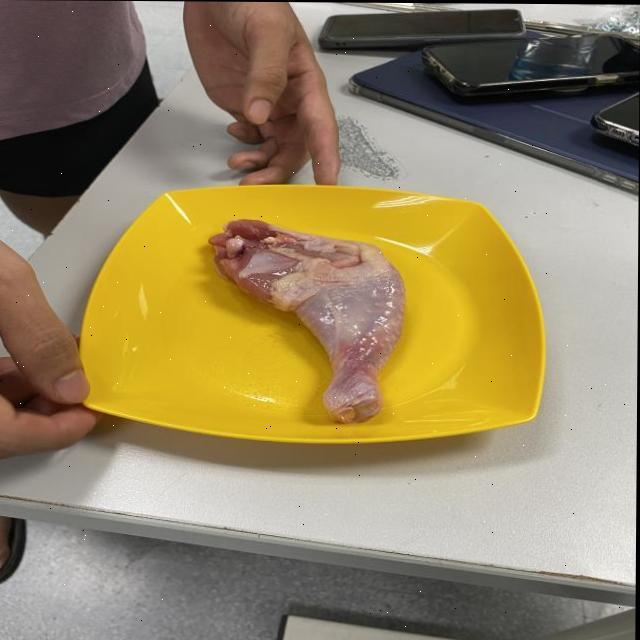quater: (209, 206, 411, 426)
